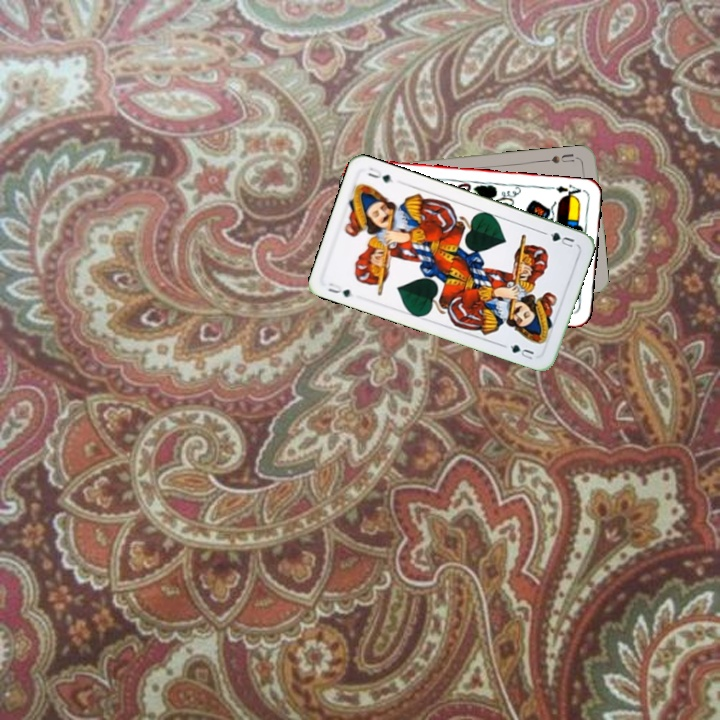EA: (552, 180, 583, 201)
GU: (540, 228, 577, 250), (324, 279, 356, 300)
SU: (548, 150, 582, 166)
